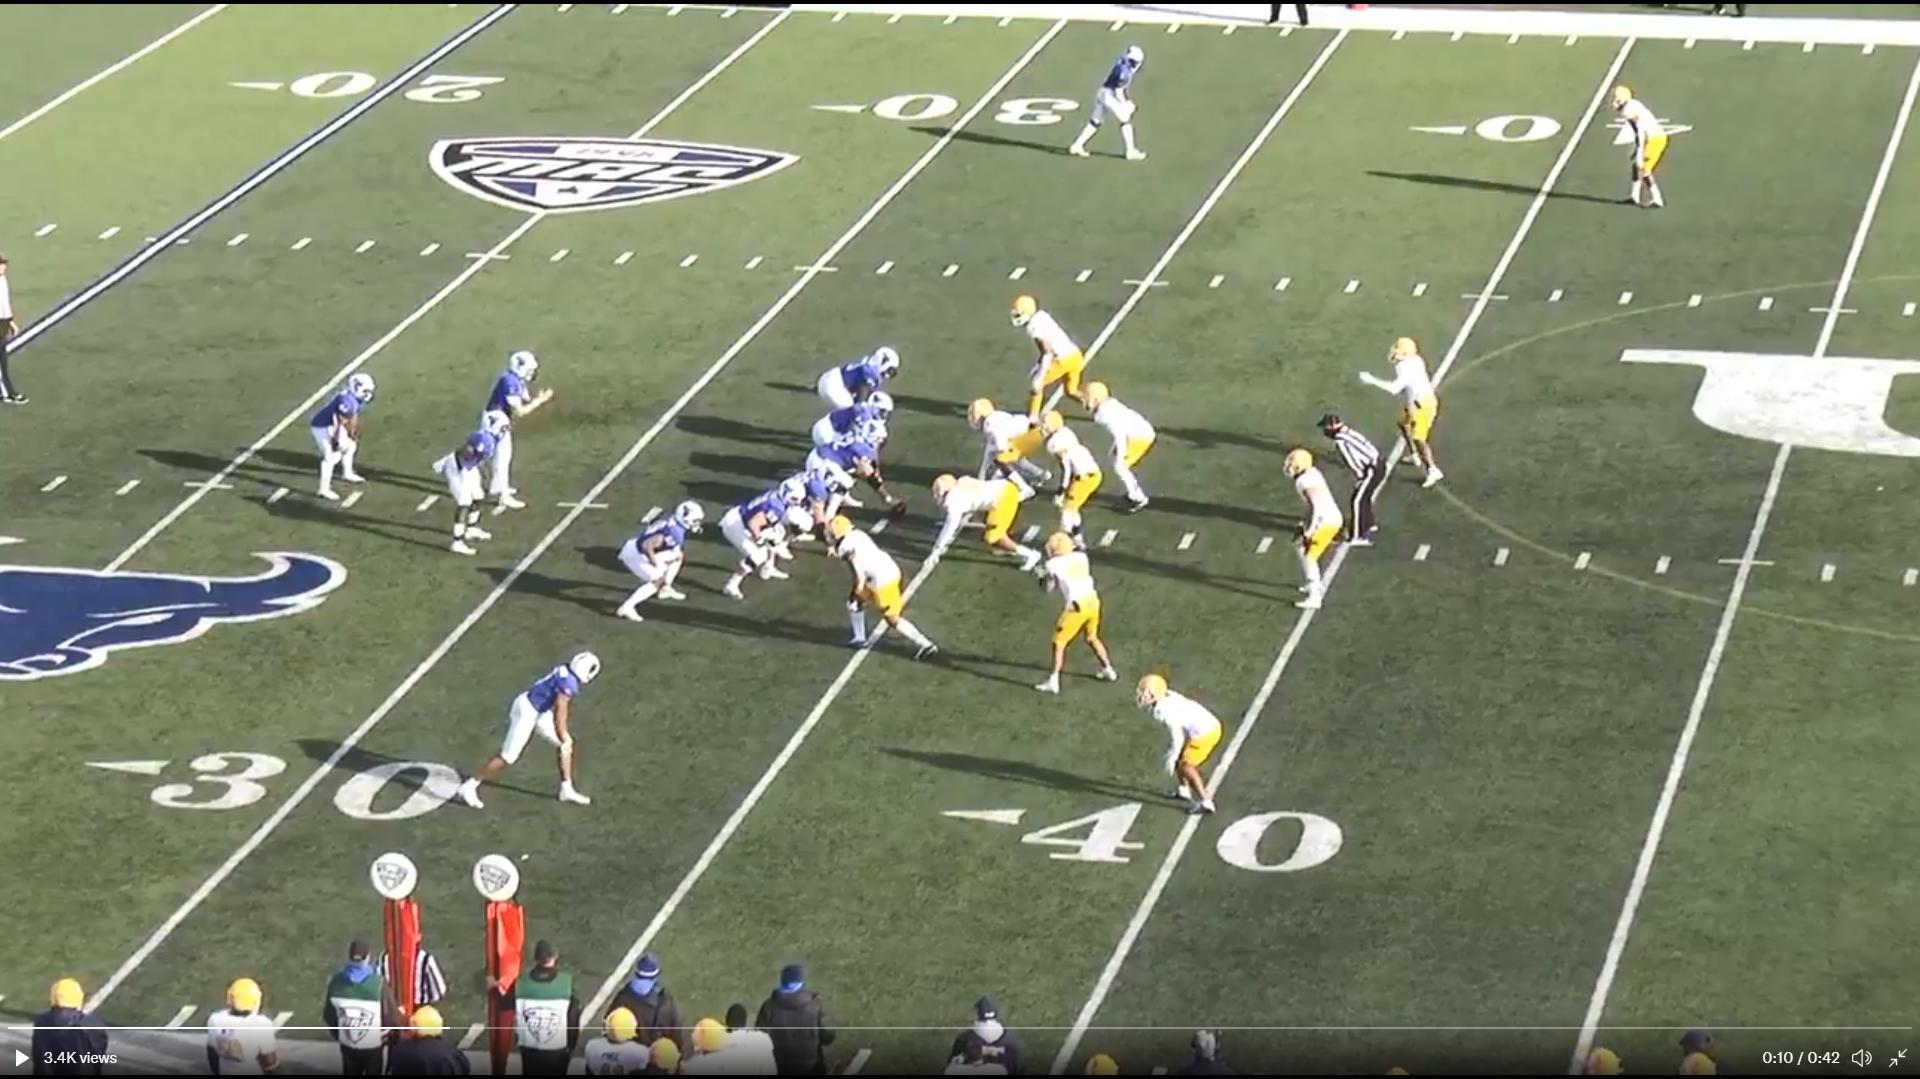player: (467, 644, 613, 815), (829, 515, 940, 666), (1035, 529, 1123, 704), (487, 342, 565, 514), (923, 469, 1044, 577), (1133, 672, 1218, 824), (435, 402, 514, 561), (1374, 335, 1451, 496), (1278, 441, 1344, 622), (1010, 293, 1098, 428), (1082, 377, 1165, 519), (614, 497, 704, 625), (1030, 412, 1108, 559), (1064, 42, 1151, 170), (721, 477, 806, 606), (305, 367, 384, 504), (1611, 81, 1679, 218), (805, 429, 897, 519), (777, 460, 859, 560), (970, 401, 1058, 491), (810, 396, 901, 467), (816, 341, 902, 411)
ref: (1316, 410, 1380, 556), (0, 251, 35, 414)
